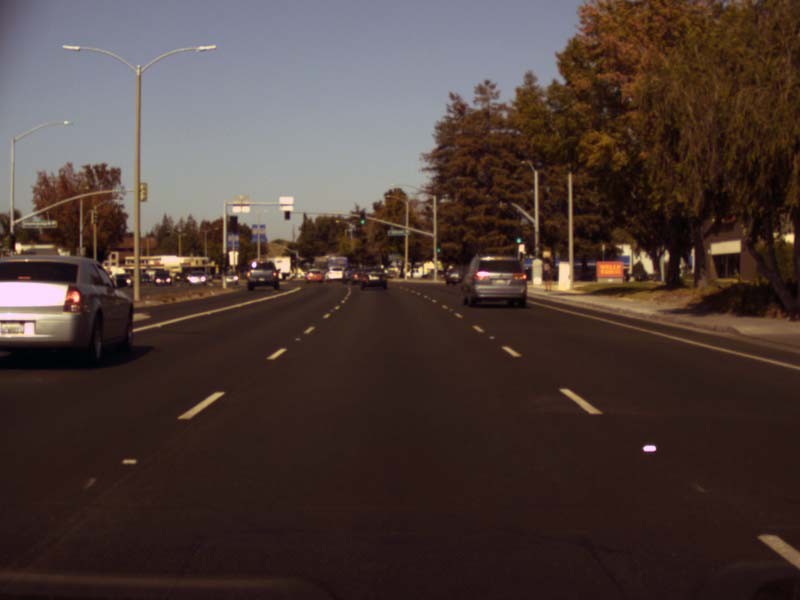Green: (514, 225, 522, 243), (359, 213, 365, 224), (435, 242, 440, 253)
Red: (285, 208, 289, 218)
